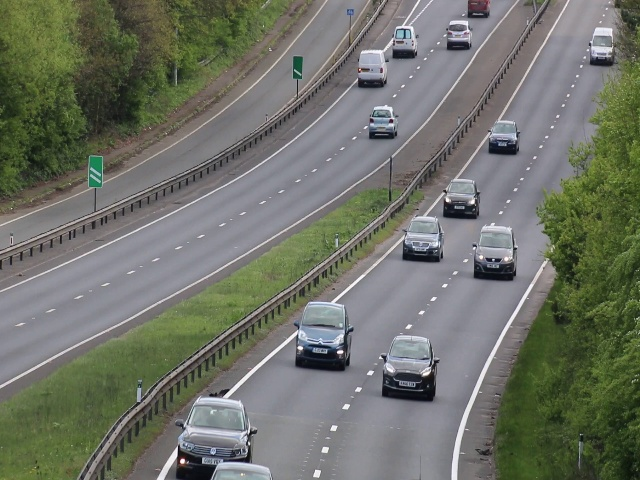car: (173, 395, 259, 470), (295, 300, 352, 374), (383, 336, 439, 400), (472, 223, 519, 280), (402, 215, 442, 261), (443, 179, 481, 217), (355, 49, 388, 87), (368, 104, 400, 138), (487, 120, 518, 155), (589, 26, 613, 63), (392, 24, 418, 57), (446, 20, 473, 49), (466, 1, 492, 18)
